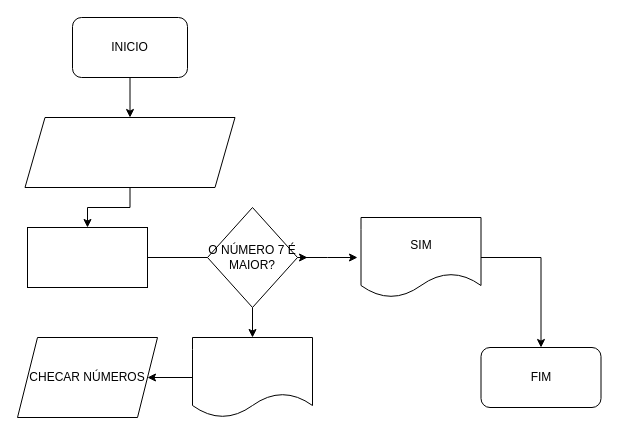
Image size: 619x435. Some labels were removed from this diagram. Each missing label, with the box of its shape:
5 e 7: (26, 226, 148, 288)
LER 2 NÚMEROS PARA DESCOBRIR QUAL É MAIOR: (24, 116, 235, 188)
NÃO: (192, 336, 312, 418)
